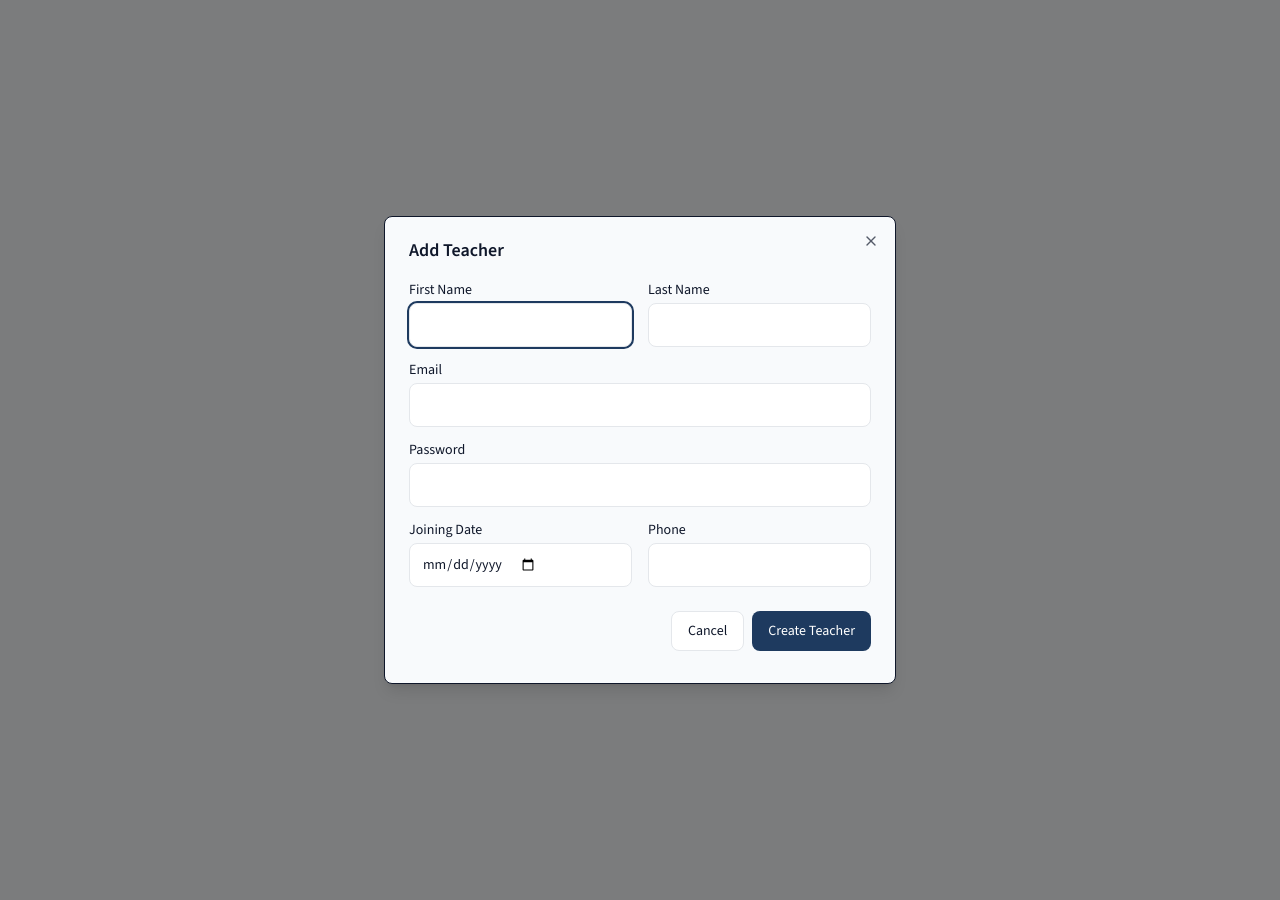
Scenario: CreateTeacherModal › 3: validation blocks short password
Type "Nguyen" into the field labelled "First Name".
click(520, 325); type("Nguyen")  # box [409,303,632,347]
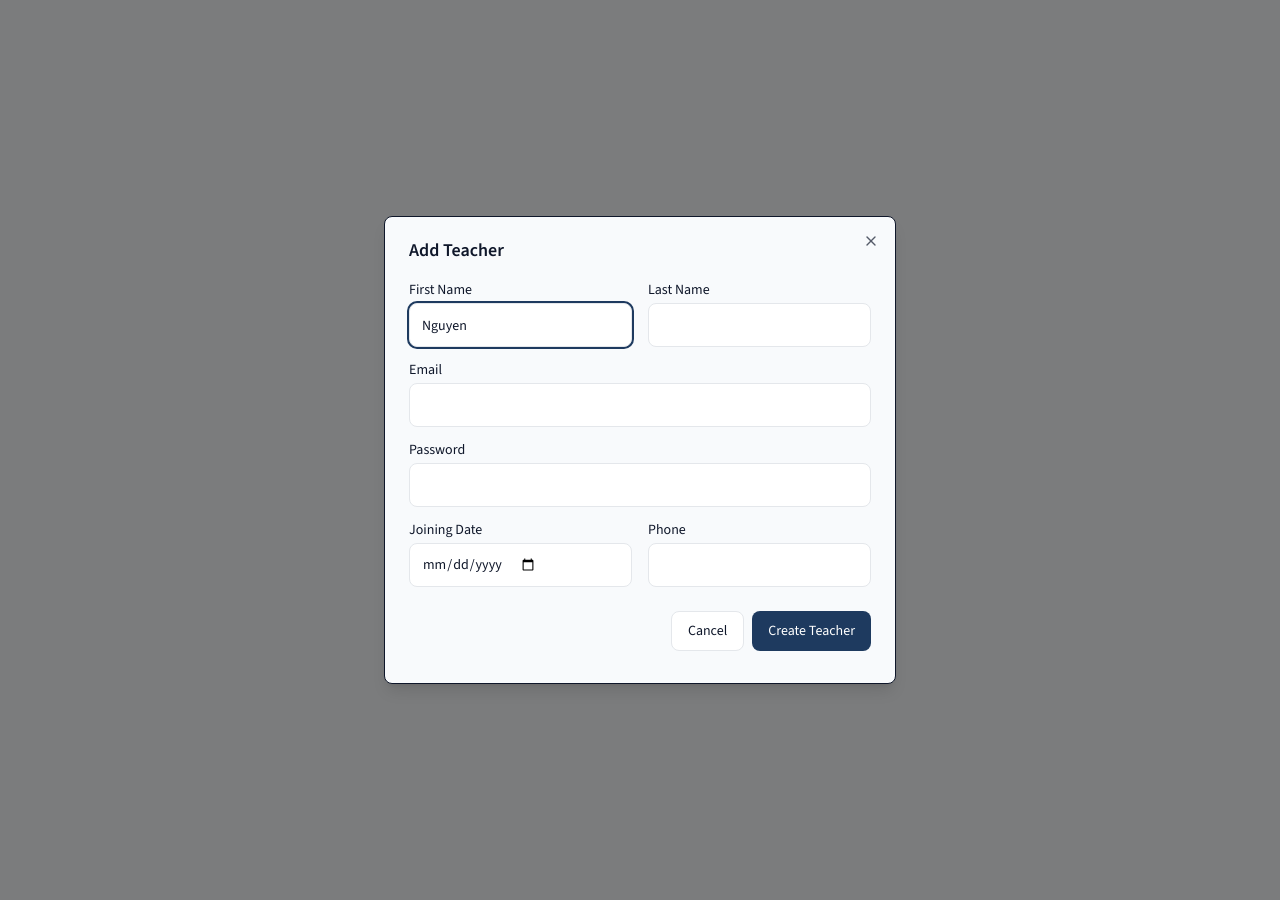
Type "Van A" into the field labelled "Last Name".
click(760, 325); type("Van A")  # box [648,303,871,347]
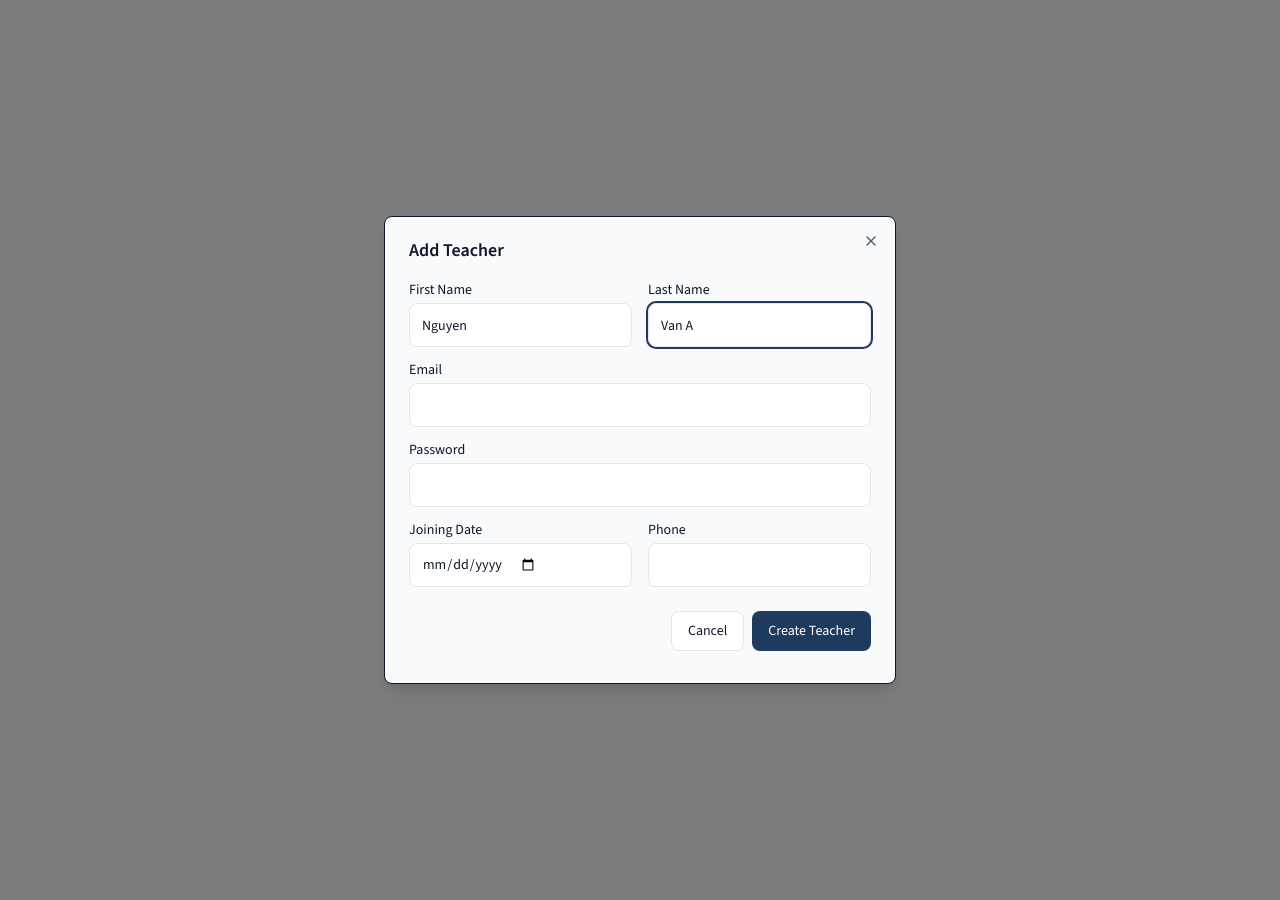
Type "nguyen@school.edu" into the field labelled "Email".
click(640, 405); type("nguyen@school.edu")  # box [409,383,871,427]
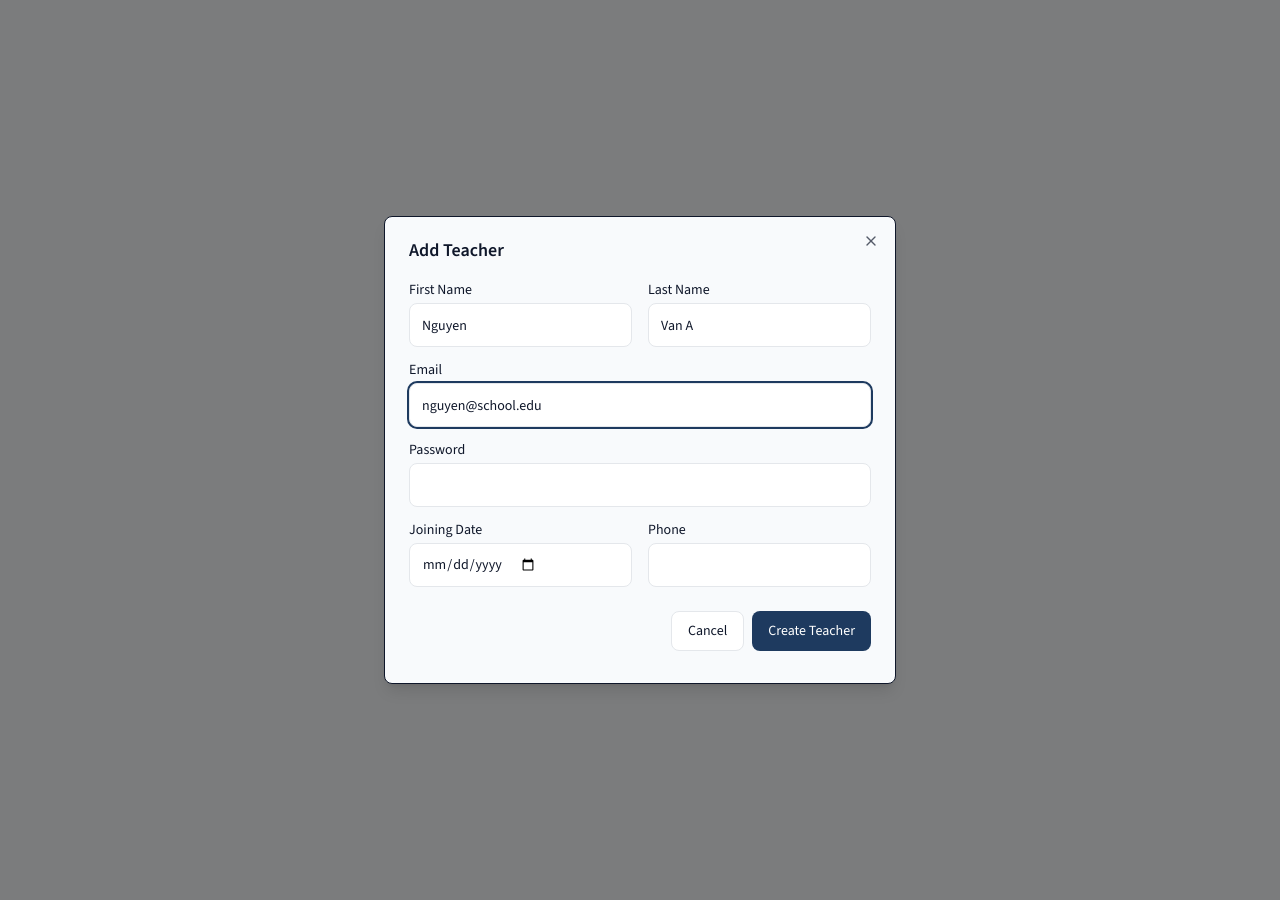
Type "abc" into the password field labelled "Password".
click(640, 485); type("abc")  # box [409,463,871,507]
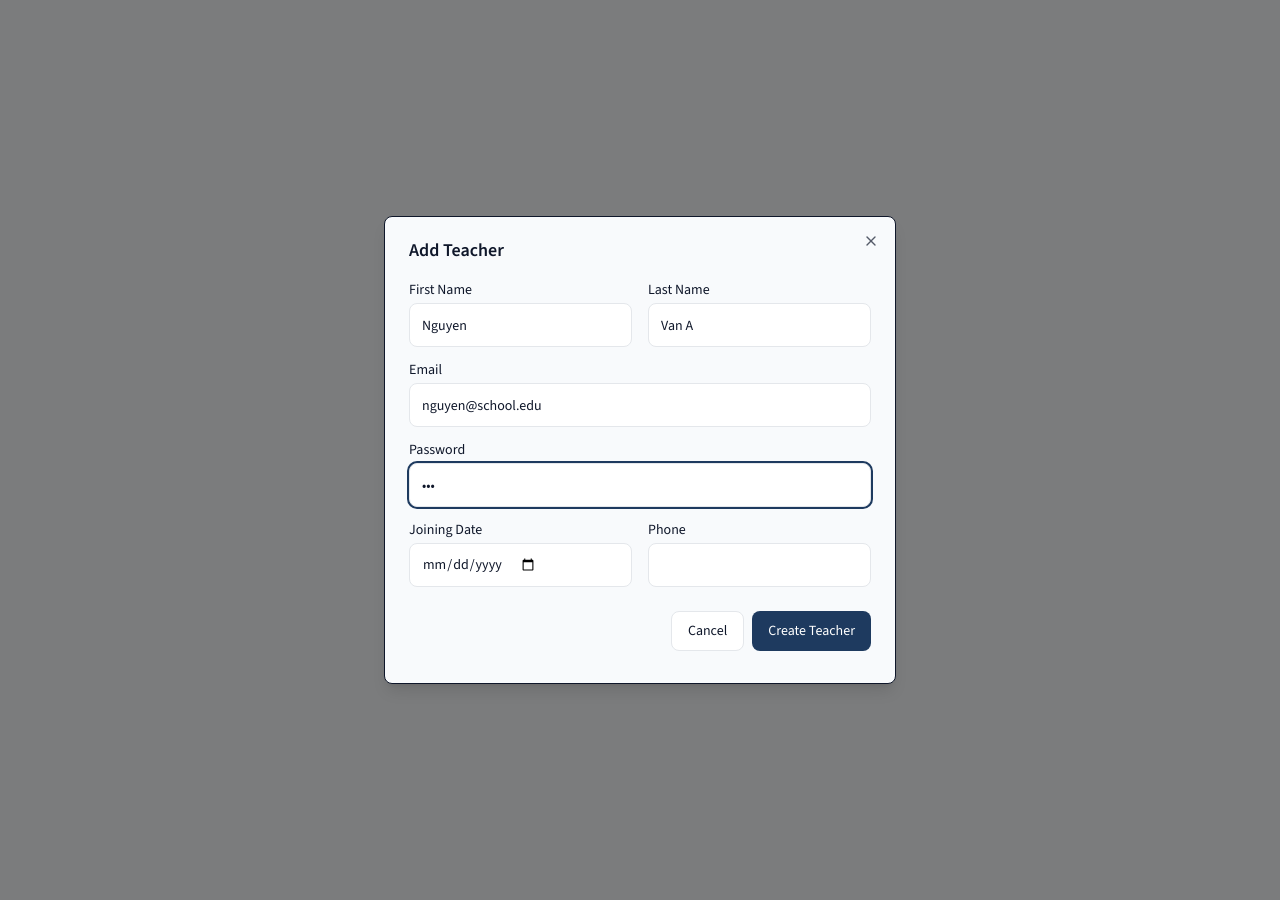
Type "2025-09-01" into the date field labelled "Joining Date".
click(520, 565); type("2025-09-01")  # box [409,543,632,587]
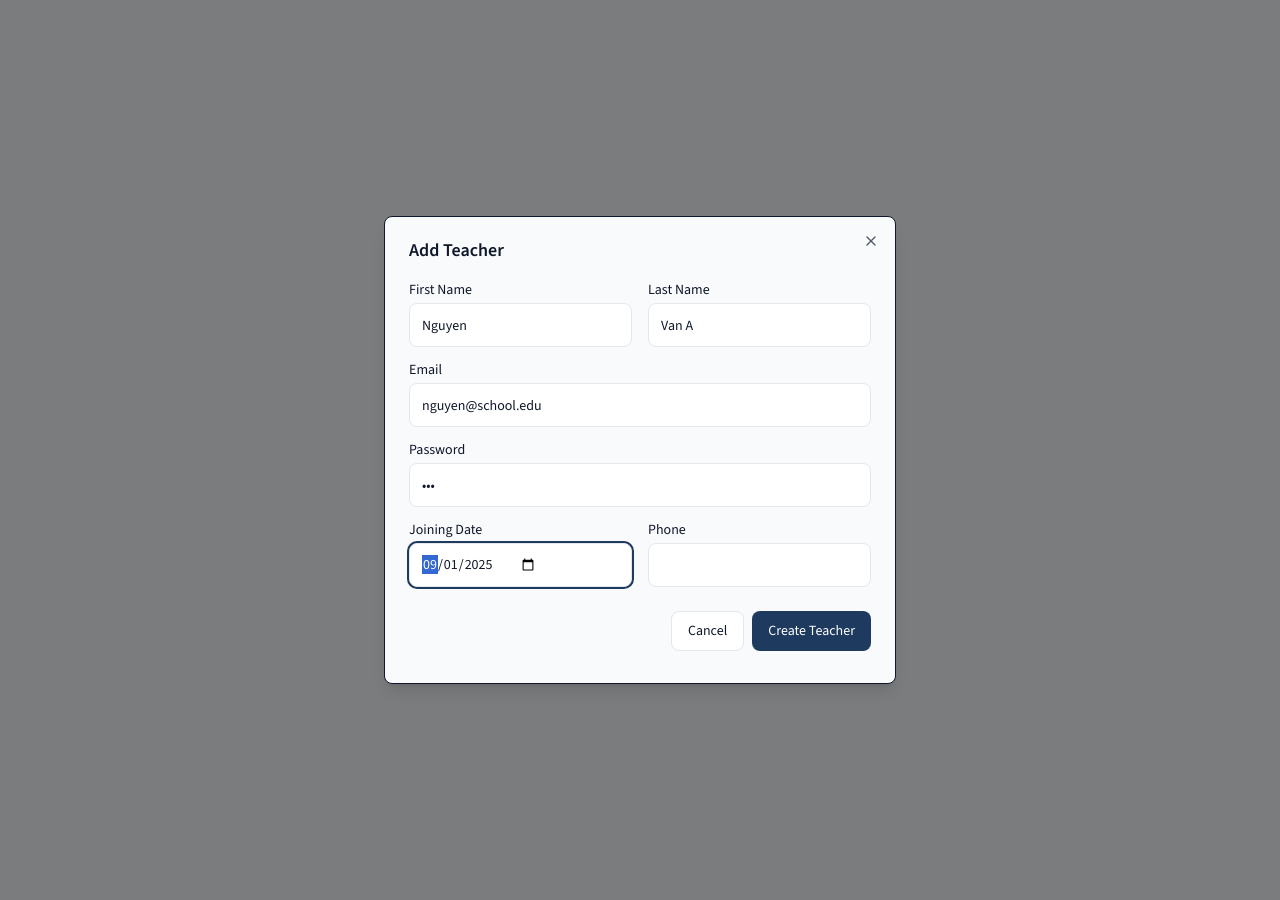
Click the button "Create Teacher".
click(812, 631)  # box [752,611,871,651]
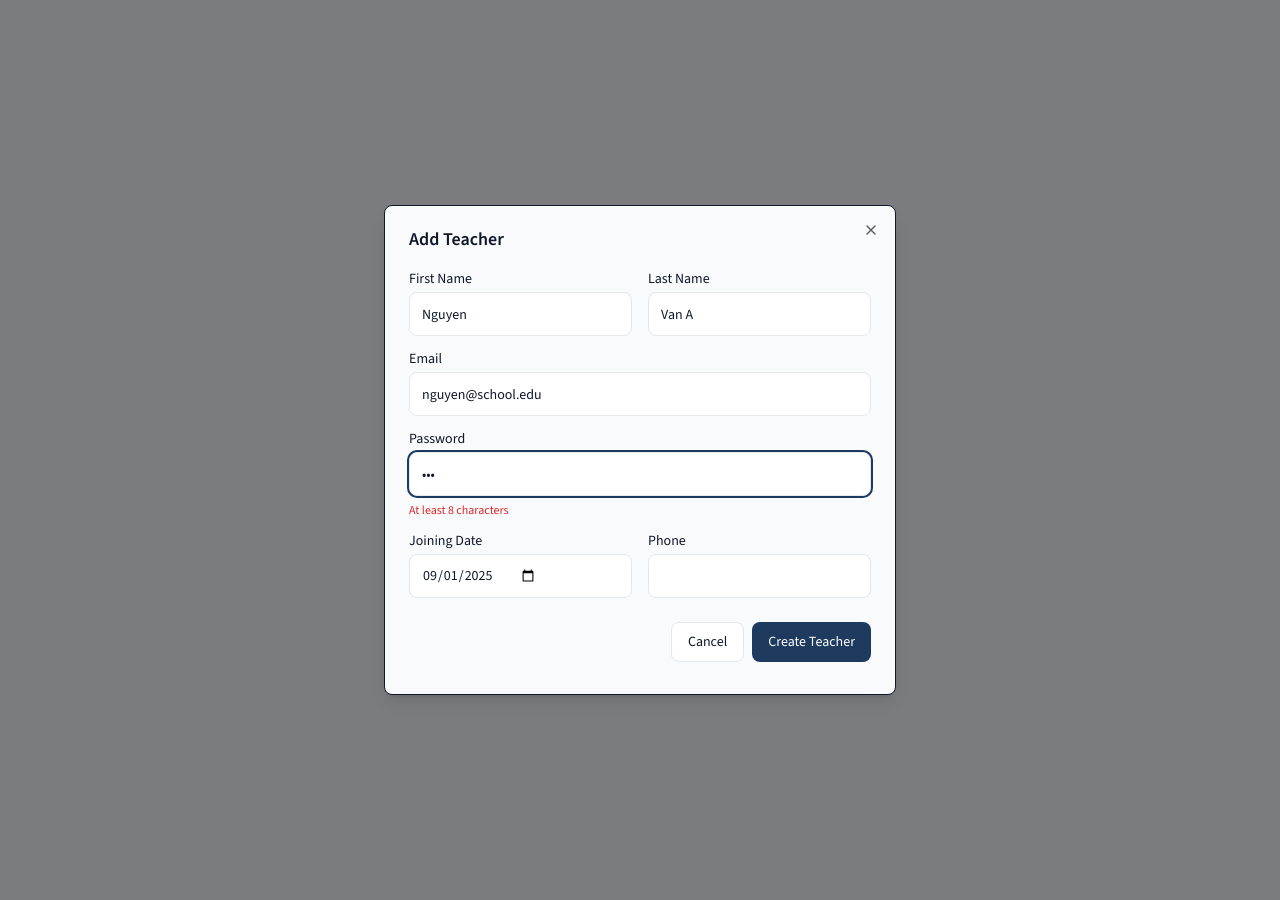
Now the text "At least 8 characters" is shown, box [409,502,509,518]
